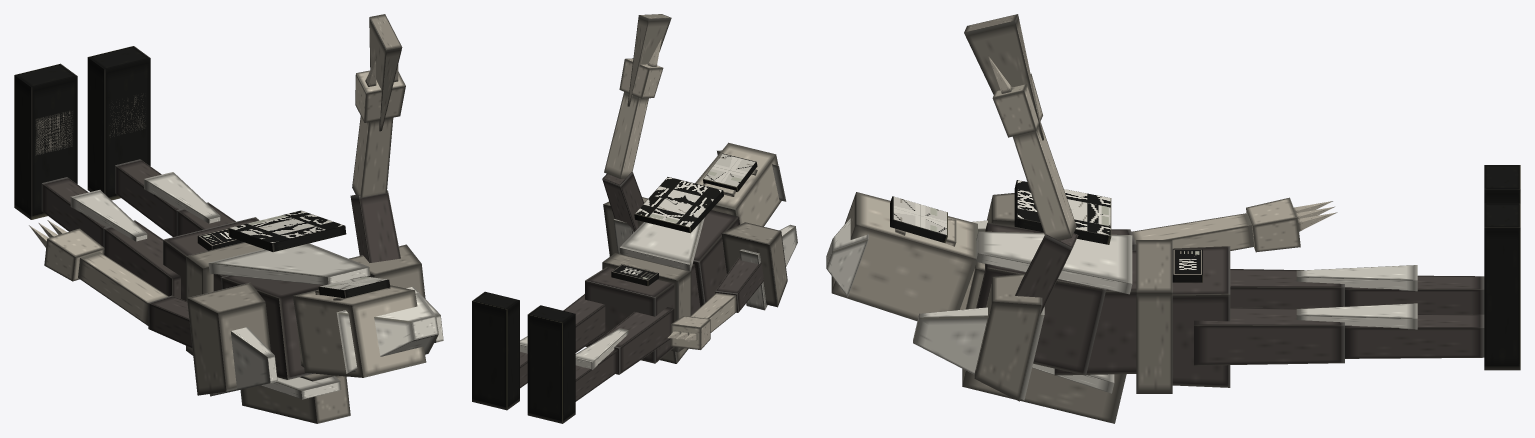
The model's file is velaroth_warning.obj.
3 views of the same model, side by side, from view 1: azimuth 30°, elevation 25°; view 2: azimuth 150°, elevation 25°; view 3: azimuth 270°, elevation 25° (orthographic). The views are drawn at different scales.
Visible parts, largest first — view 1: velaroth_warning; view 2: velaroth_warning; view 3: velaroth_warning.
Part boxes in pixels (x1,y1,x2,y2): velaroth_warning: (14, 14, 443, 423); velaroth_warning: (472, 14, 797, 423); velaroth_warning: (826, 14, 1520, 423).
Size of the model in its own units: 0.4344 by 0.6797 by 0.9905.
1 material, 1 textured.
